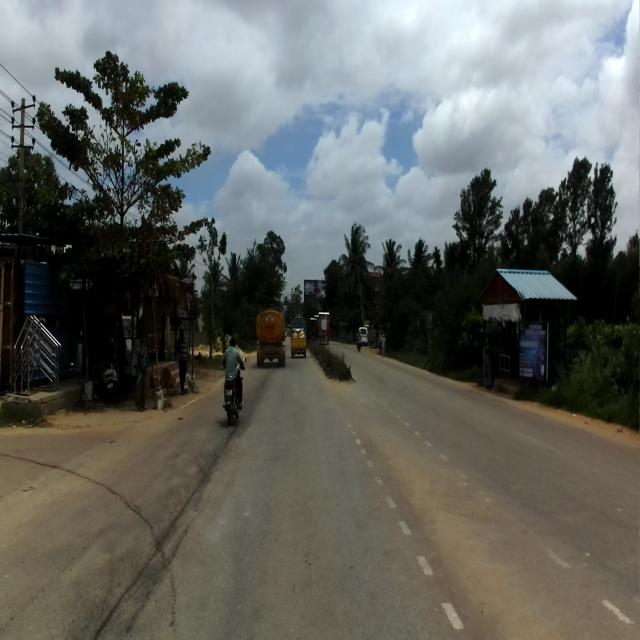motorcycle: (223, 358, 242, 422)
